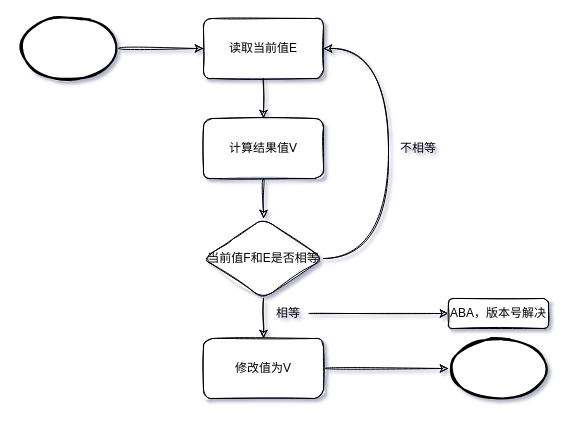
Some shapes in this 572 by 422 pixel diagram are drawn without their labels. The shapes that lost their labels are listed below. From the top down, each one's centre as x and y in pixels, then its label:
the point at 68,48: 开始
the point at 498,368: 结束
